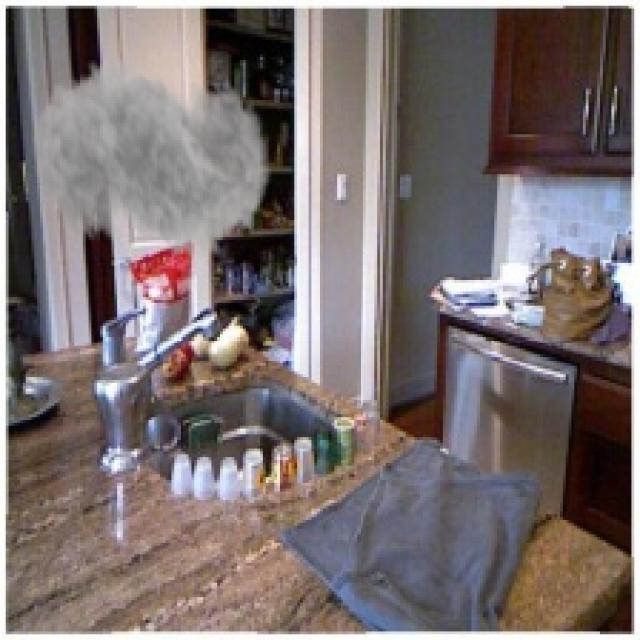Smoke: (32, 37, 272, 286)
